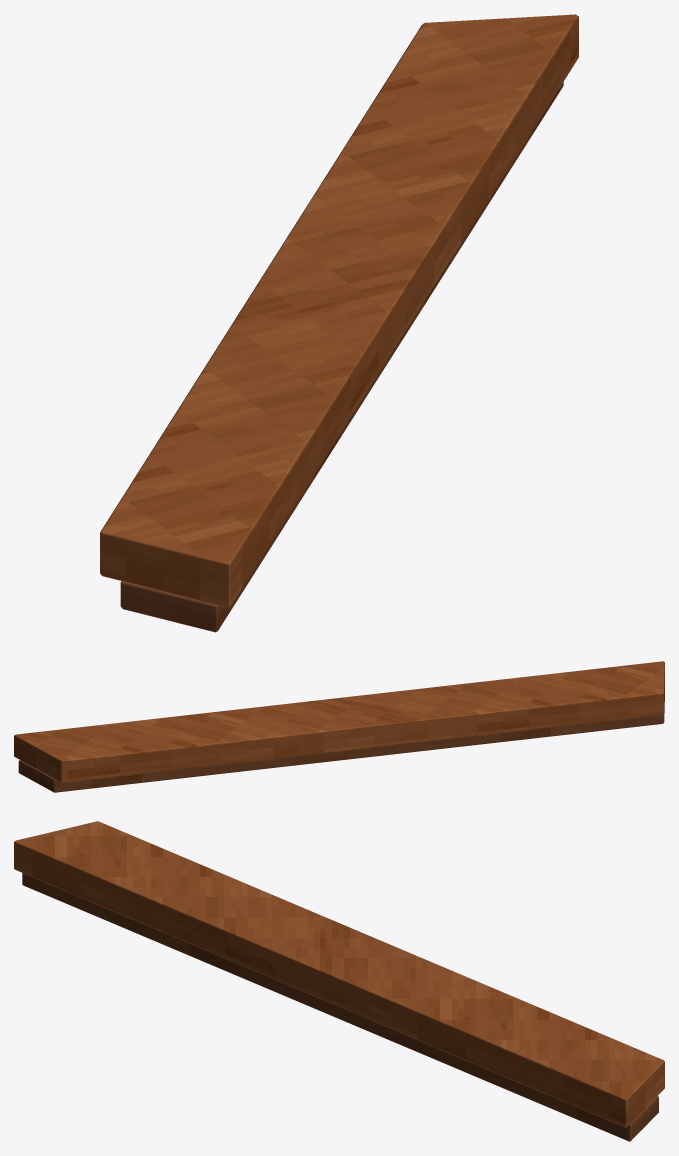
The model's file is Coping-1.glb.
3 views of the same model, one above another, from view 1: azimuth 30°, elevation 25°; view 2: azimuth 150°, elevation 25°; view 3: azimuth 270°, elevation 25° (orthographic). The views are drawn at different scales.
Parts seen in each view (by area): view 1: Coping-1; view 2: Coping-1; view 3: Coping-1.
Boxes of the visible parts, <box> form: Coping-1: <box>100,14,578,632</box>; Coping-1: <box>14,661,664,792</box>; Coping-1: <box>14,821,664,1141</box>.
Size of the model in its own units: 2.14 by 0.169 by 2.11.
2 materials, 2 textured.
